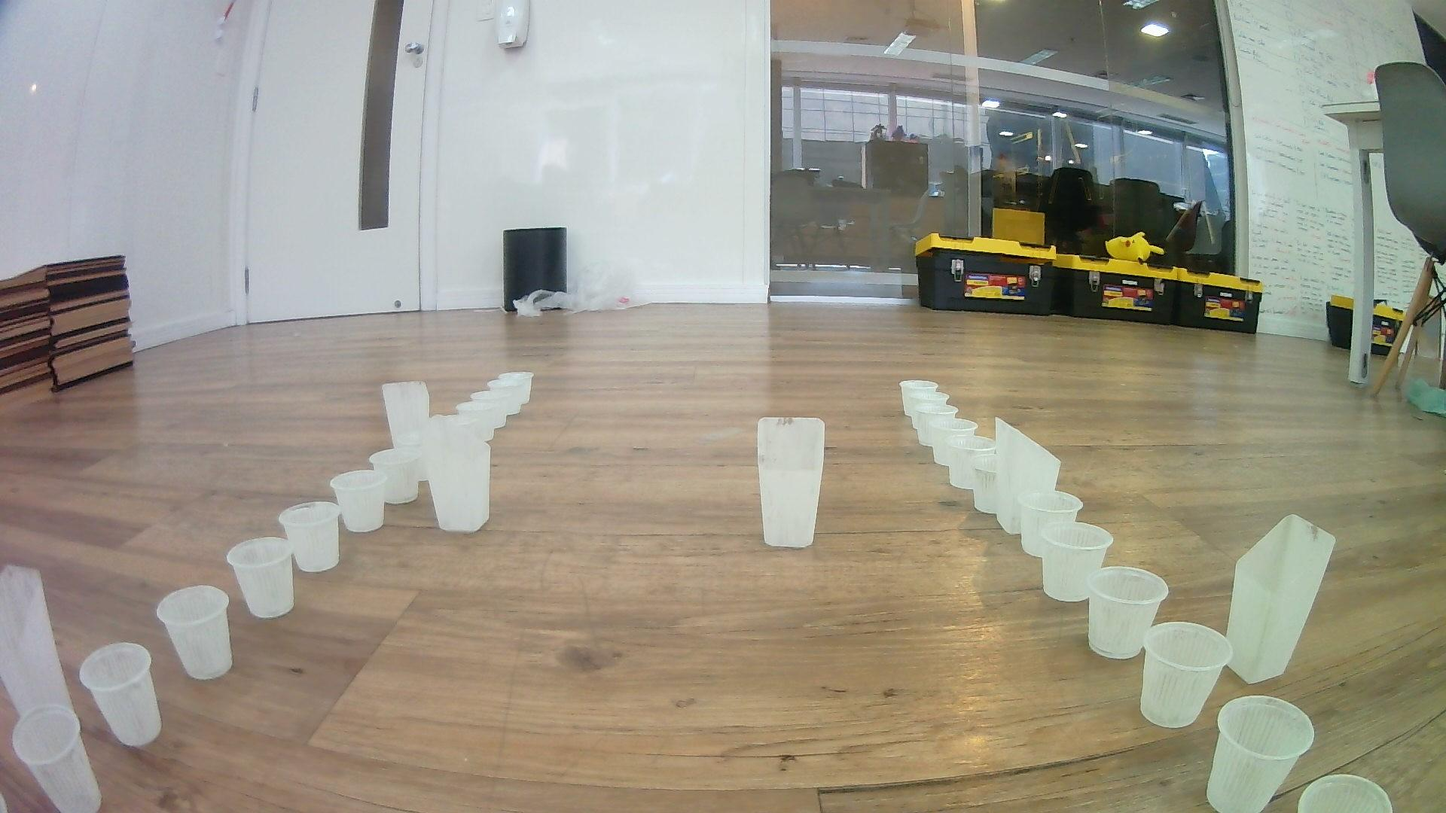erva_daninha: (1227, 513, 1338, 686), (0, 563, 80, 730), (755, 416, 826, 550), (993, 416, 1063, 536), (420, 435, 492, 534), (380, 380, 434, 452)
planta: (1205, 696, 1317, 813), (1138, 620, 1233, 729), (11, 705, 102, 813), (78, 641, 163, 748), (1082, 565, 1169, 660), (155, 584, 235, 681), (1039, 521, 1115, 602), (224, 536, 297, 620), (277, 501, 342, 574), (1017, 490, 1084, 559), (328, 467, 388, 534), (1295, 774, 1396, 813), (369, 447, 420, 505), (944, 435, 997, 489), (929, 417, 981, 465), (969, 453, 1007, 515), (914, 404, 959, 447), (455, 400, 496, 442), (906, 393, 950, 431), (897, 379, 939, 417), (470, 389, 509, 429), (427, 413, 474, 446), (487, 379, 523, 416), (498, 372, 535, 404)
